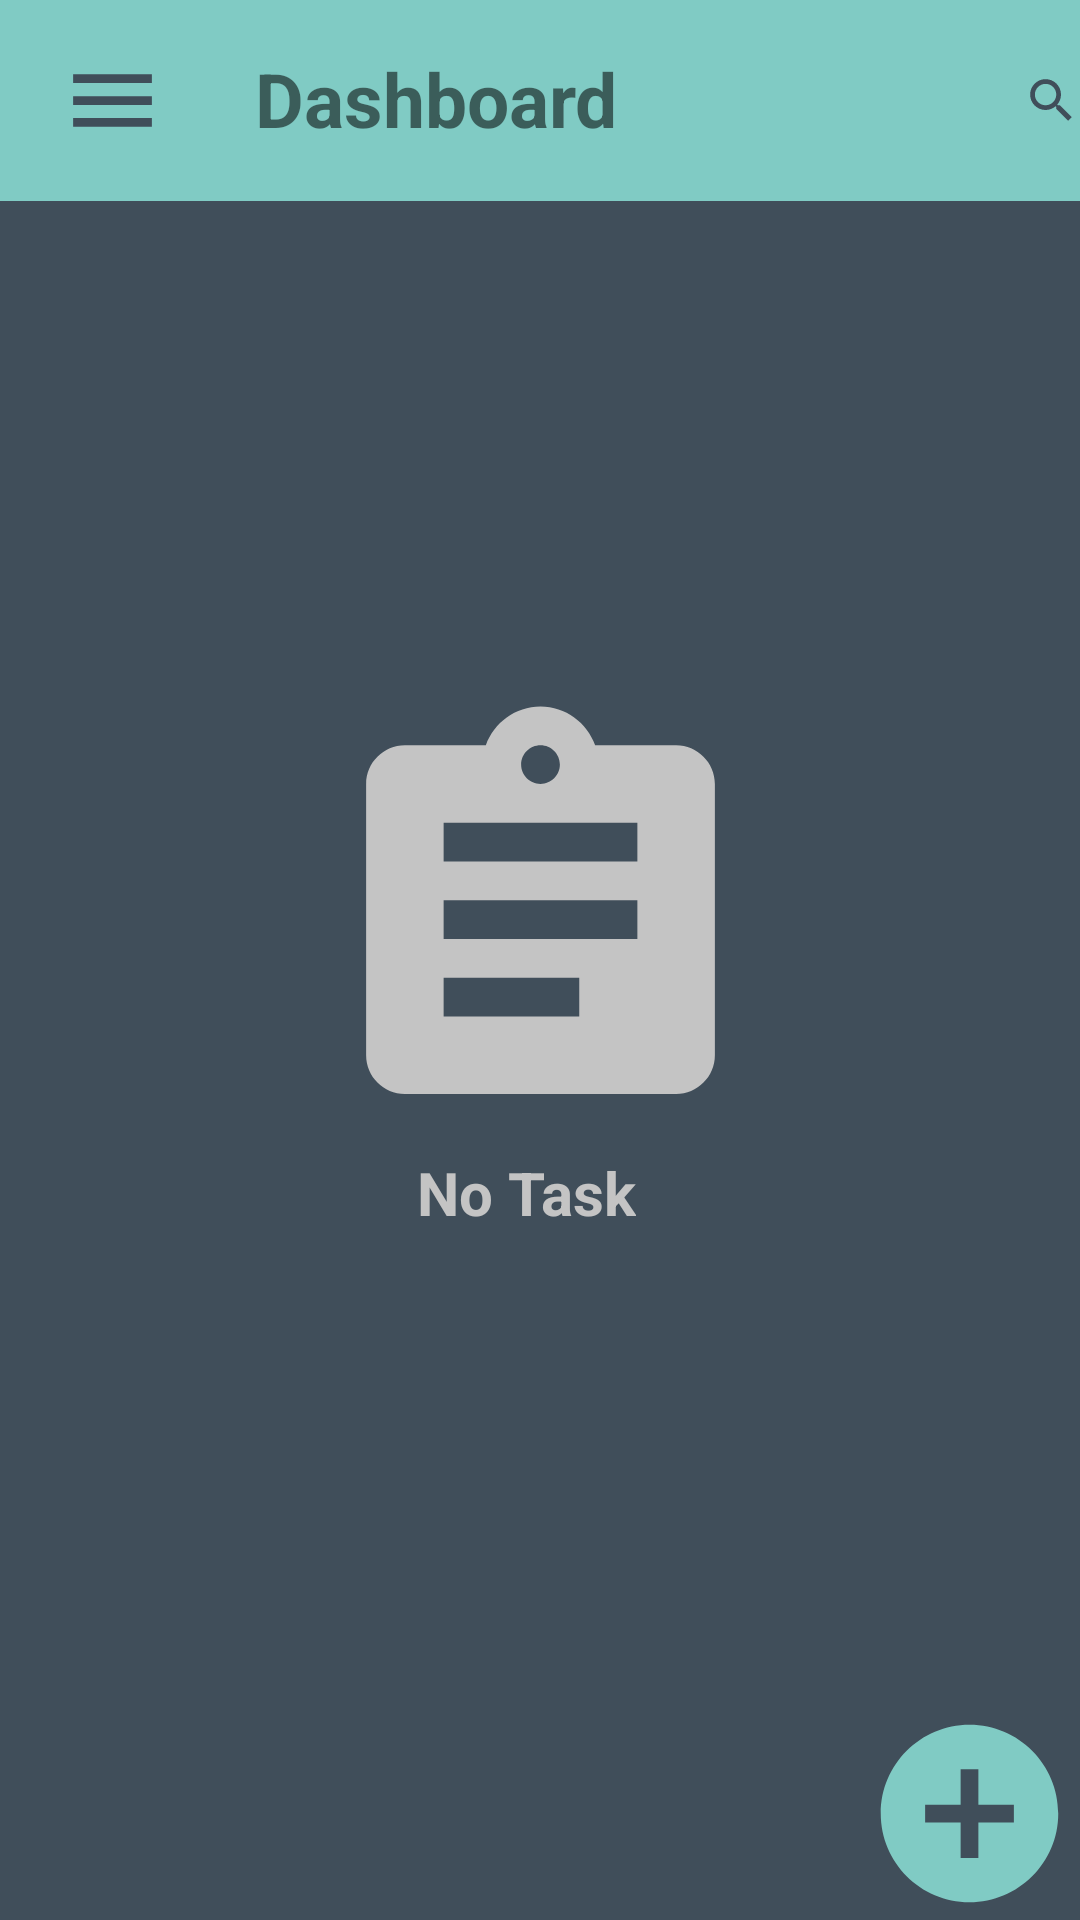

Icon bounding boxes for this 1080 x 1920 phone screenshot, format (x1, y1, x2, y2):
cari: (1030, 79, 1072, 121)
tambah: (880, 1724, 1059, 1903)
